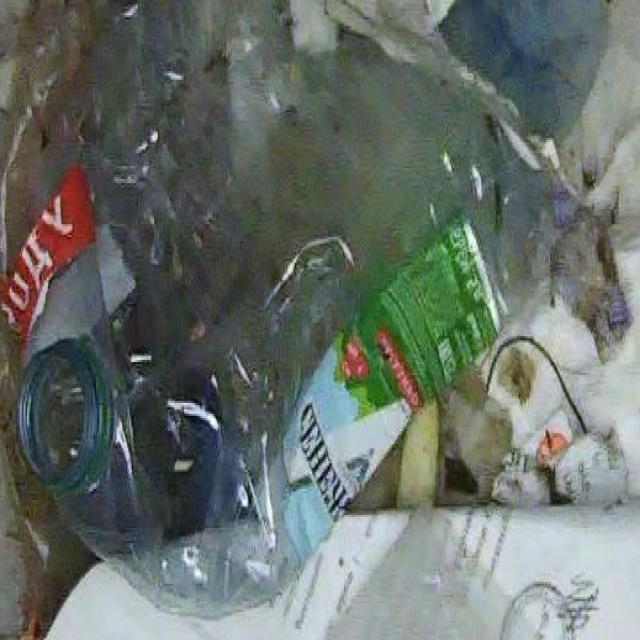litter: (25, 14, 577, 616)
